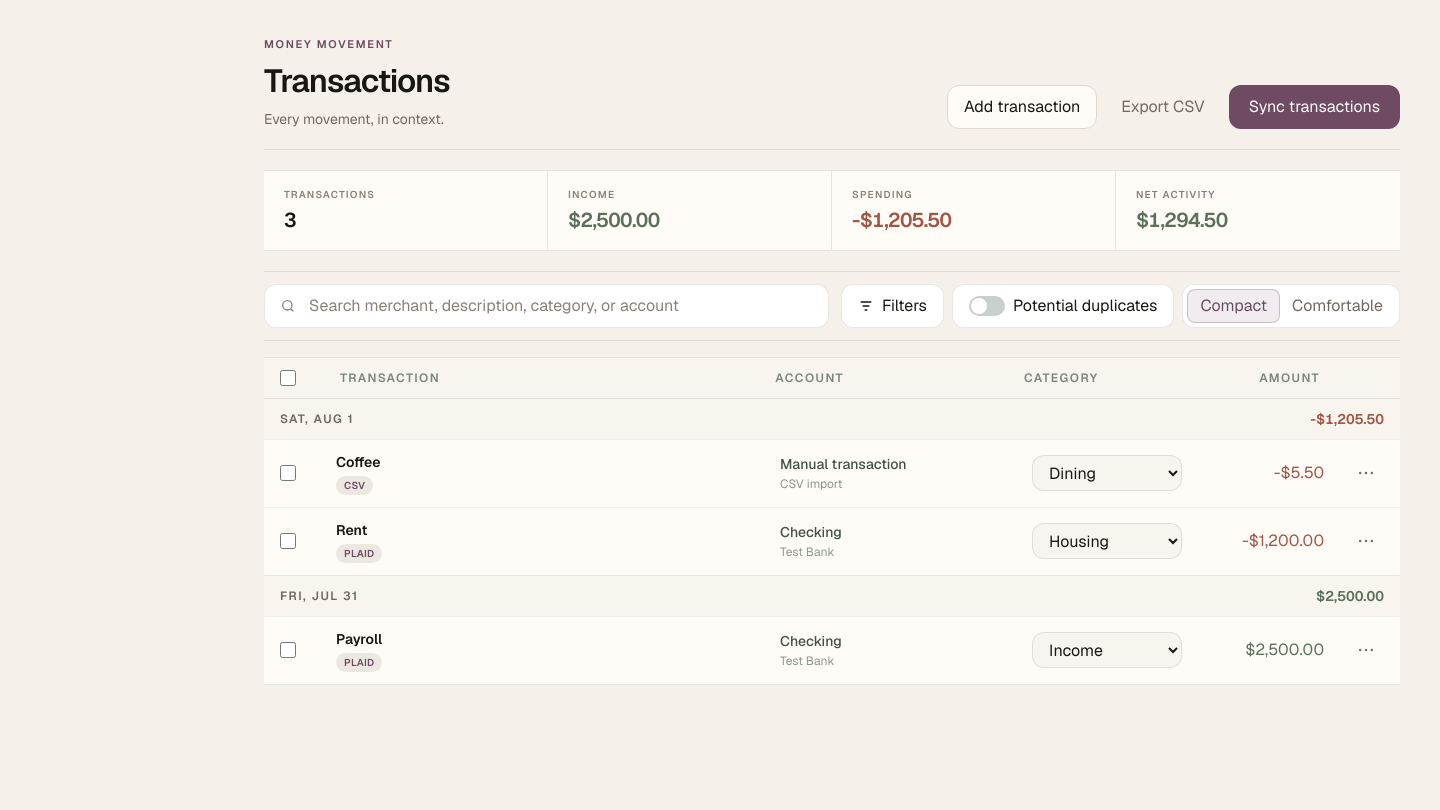
Test: TransactionsPage bulk workflows › restores different original categories with one Undo request
Click the checkbox named "Select Coffee": (288, 473) top-left (280, 465), bottom-right (296, 481)
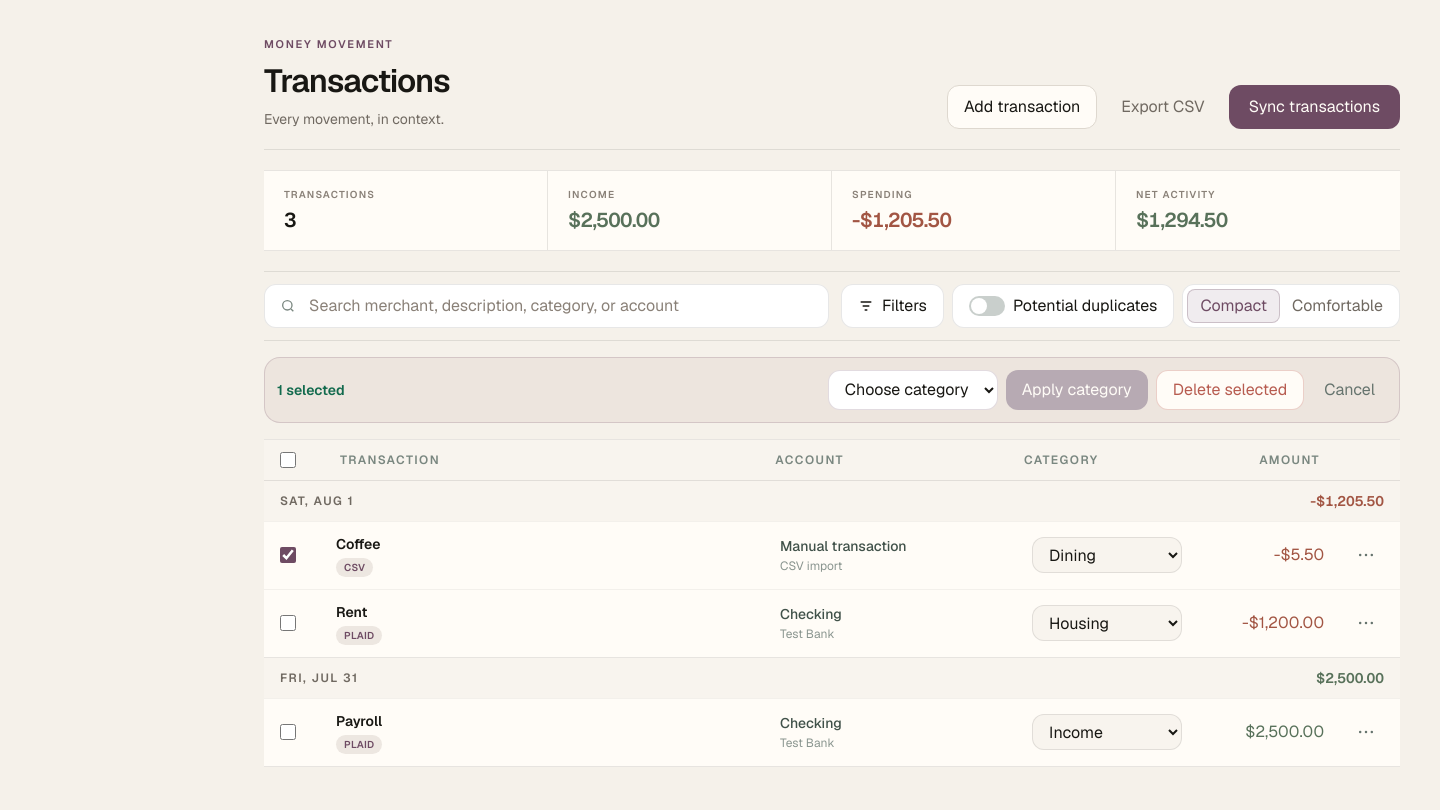
Click the checkbox named "Select Rent": (288, 623) top-left (280, 615), bottom-right (296, 631)
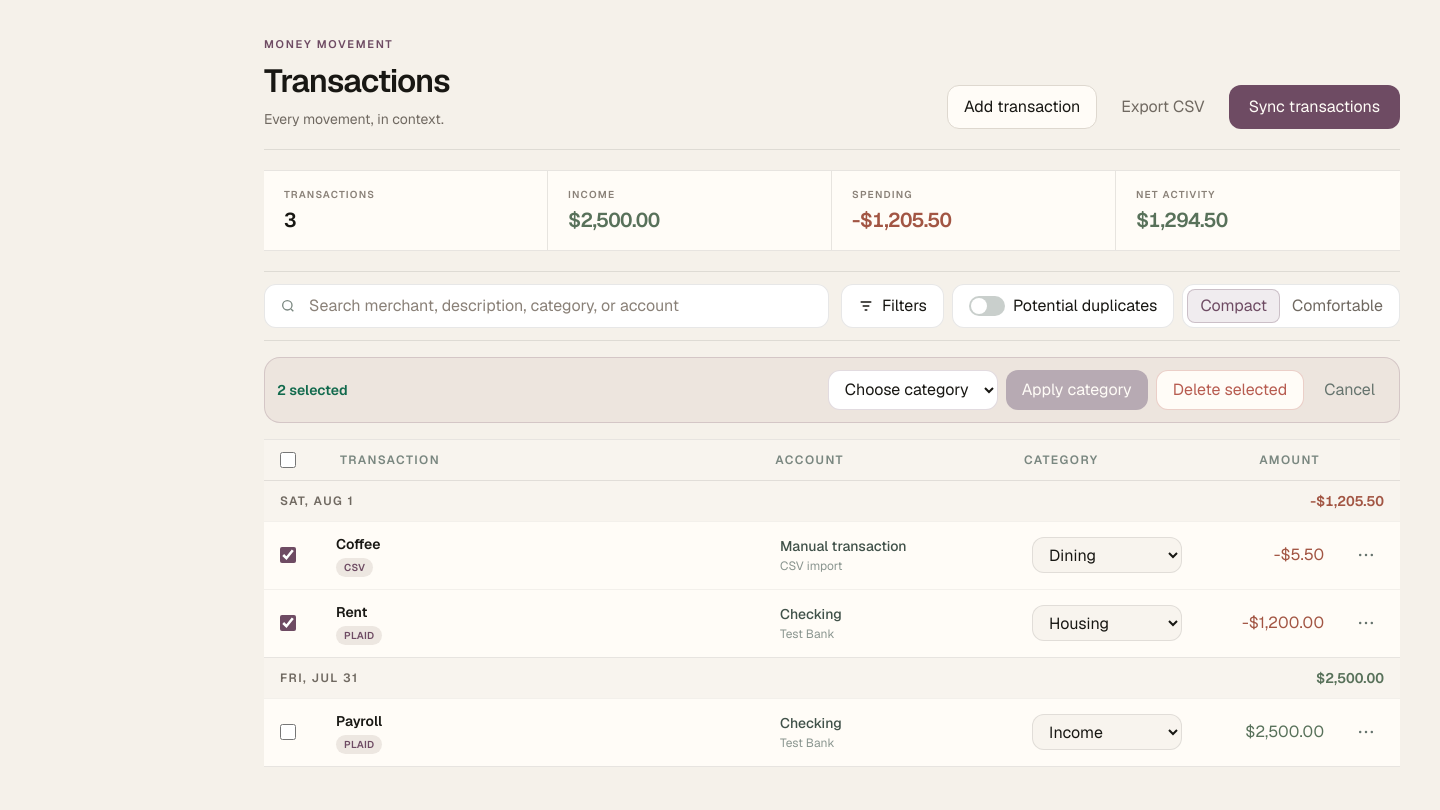
Select "Shopping" in the dropdown named "Bulk category": (913, 390) top-left (828, 370), bottom-right (998, 410)
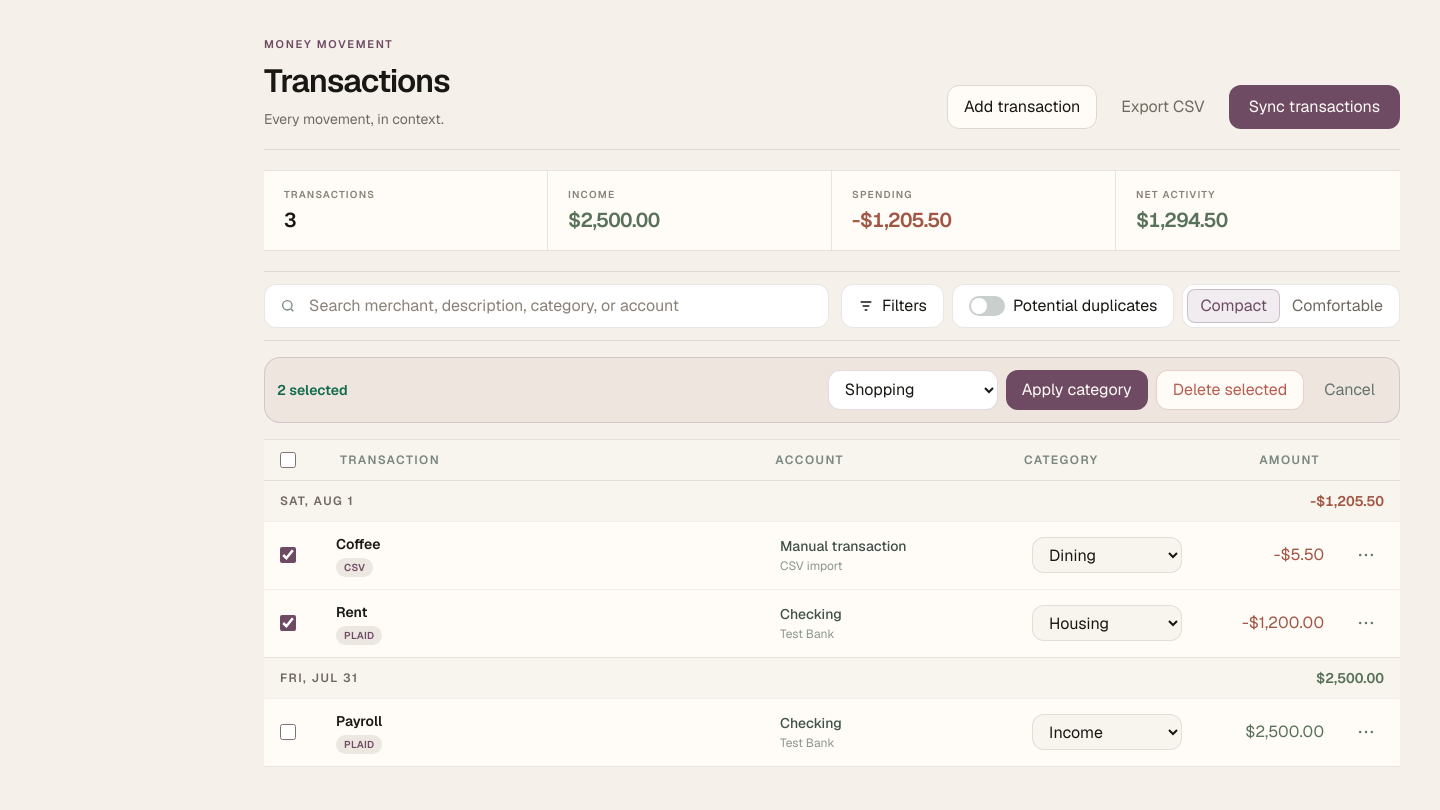
Click the button "Apply category": (1077, 390) top-left (1006, 370), bottom-right (1148, 410)
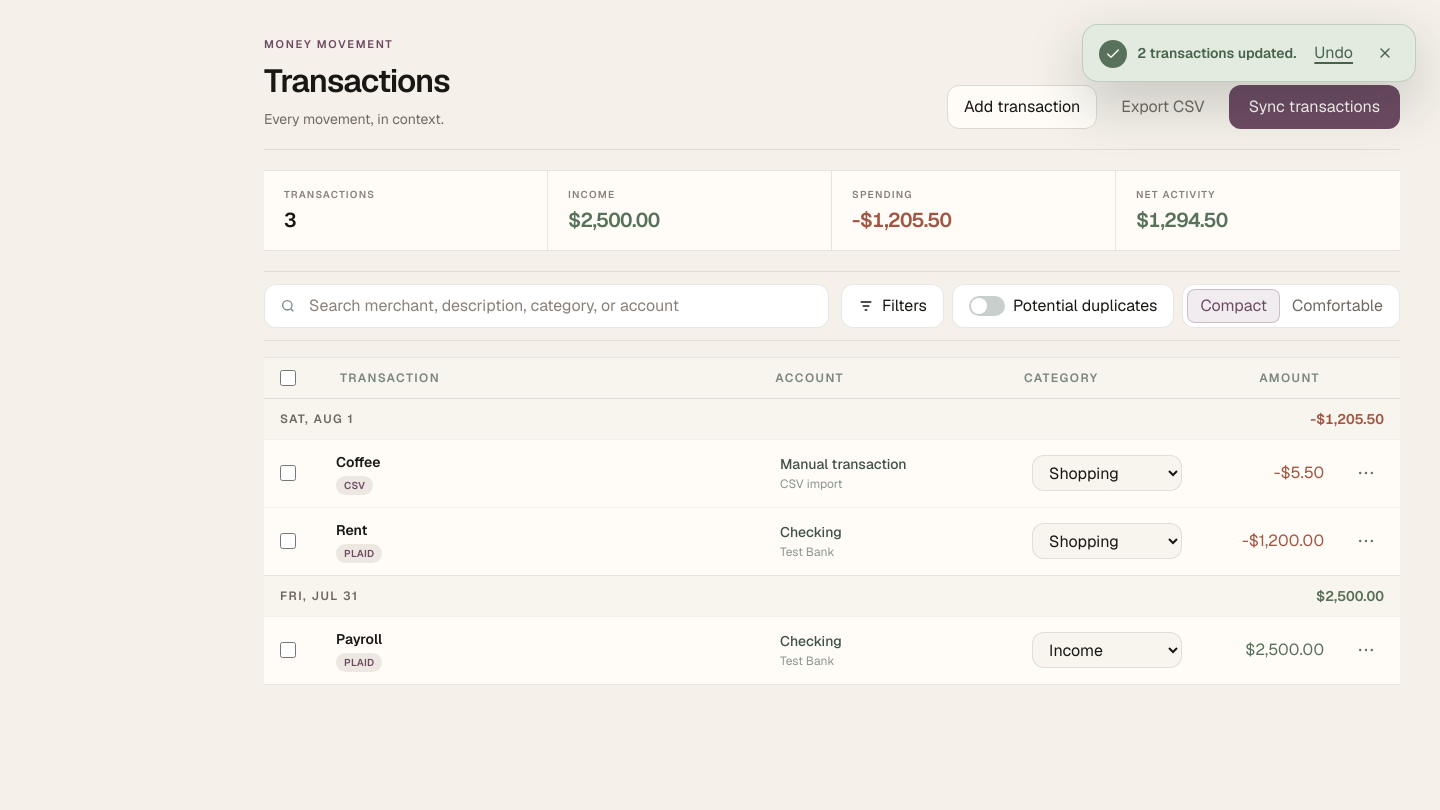
Click the button "Undo": (1334, 53) top-left (1306, 37), bottom-right (1361, 69)
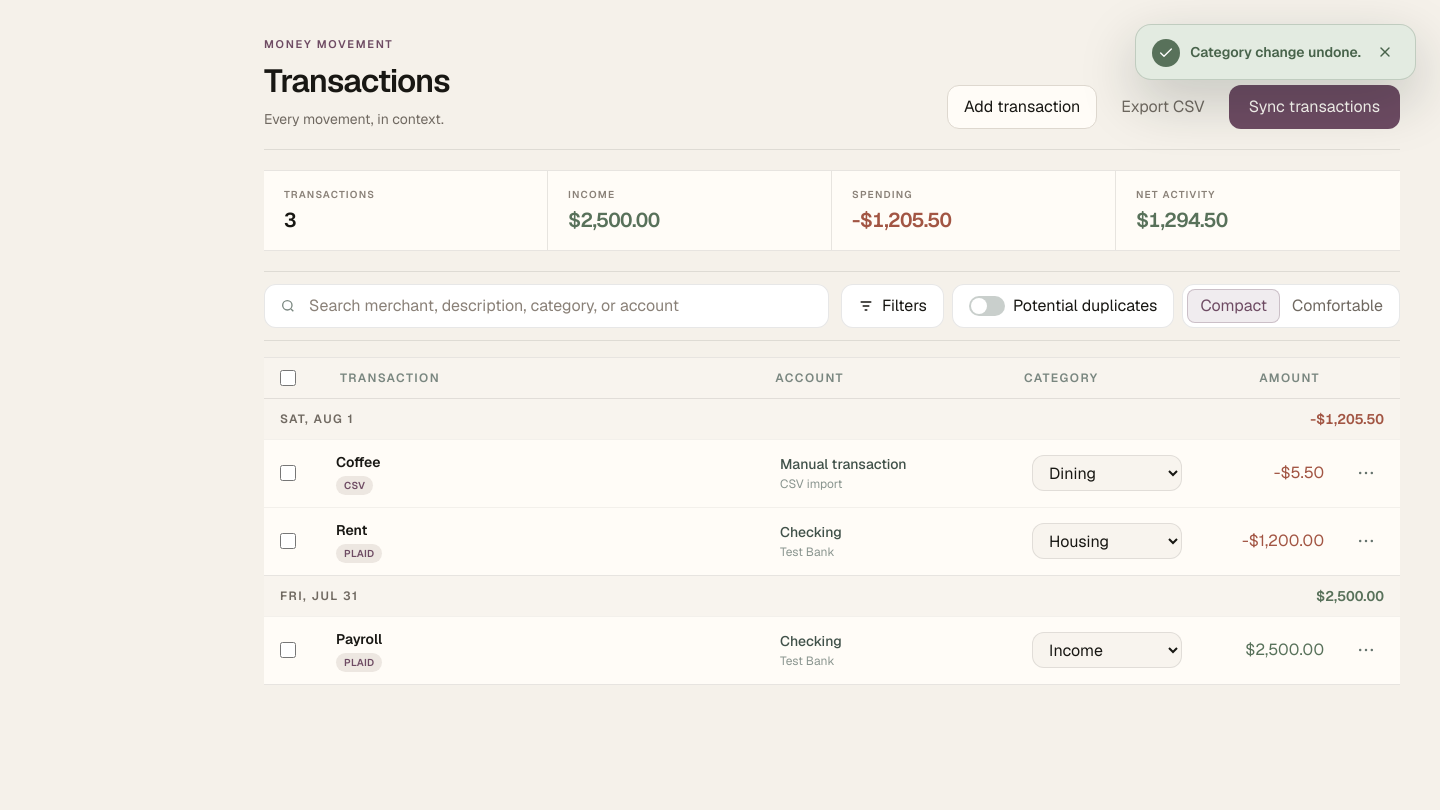
Expected: the dropdown named "Category for Coffee" shows "Dining", top-left (1032, 455), bottom-right (1182, 491)
Expected: the dropdown named "Category for Rent" shows "Housing", top-left (1032, 523), bottom-right (1182, 559)
Expected: the text "Category change undone." is shown, top-left (1190, 42), bottom-right (1361, 62)
